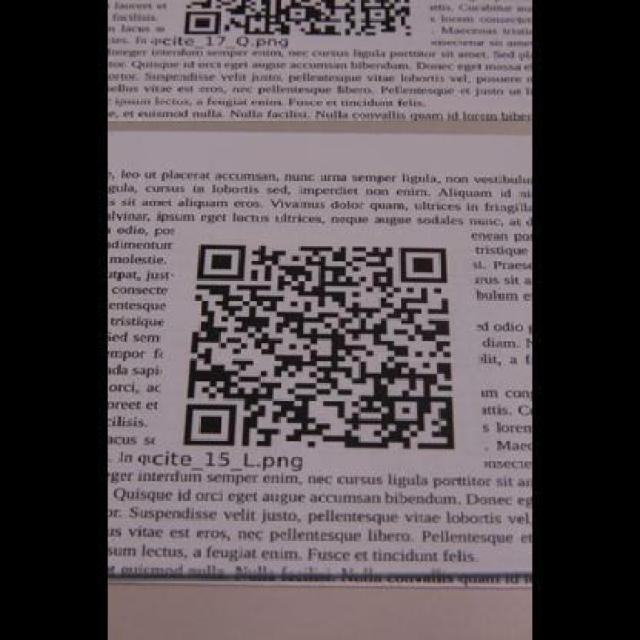QRCode: (177, 236, 462, 453)
